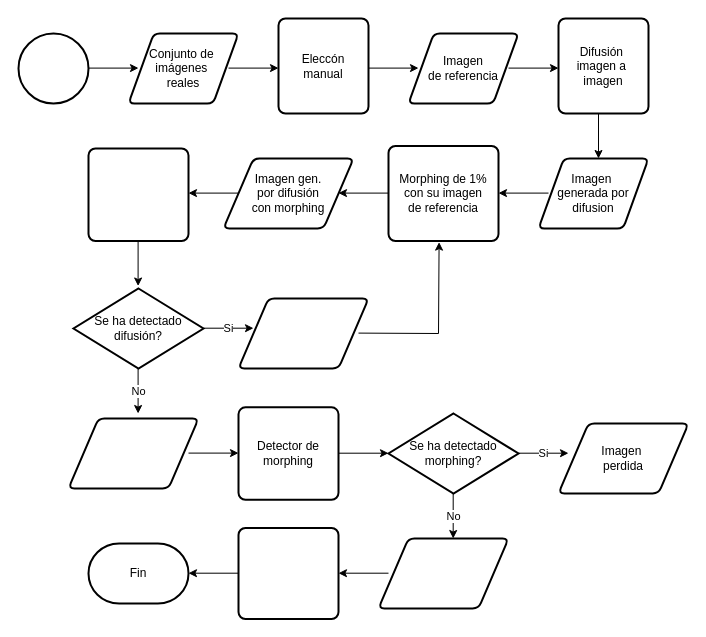
Some shapes in this 706 by 637 pixel diagram are drawn without their labels. The shapes that lost their labels are listed below. From the top down, each one's centre as x and y in pixels, then its label:
At (x=53, y=68): "Inicio".
At (x=138, y=194): "Detector de difusón".
At (x=303, y=333): "Imagen detectada".
At (x=133, y=453): "Imagen sin difusión detectable".
At (x=288, y=573): "Reconocimiento facial".
At (x=443, y=573): "Imagen que engaña".
